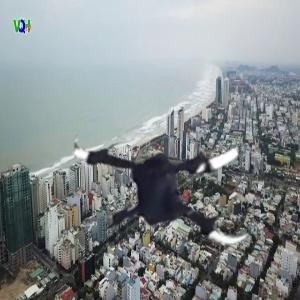drone: (71, 77, 275, 281)
